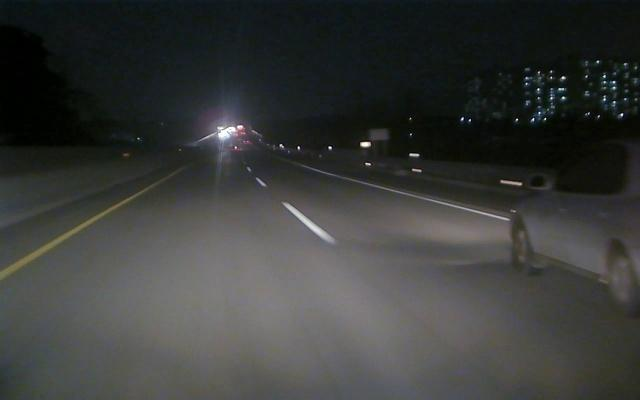lane: (1, 183, 155, 279), (299, 166, 509, 221), (255, 177, 339, 246)
